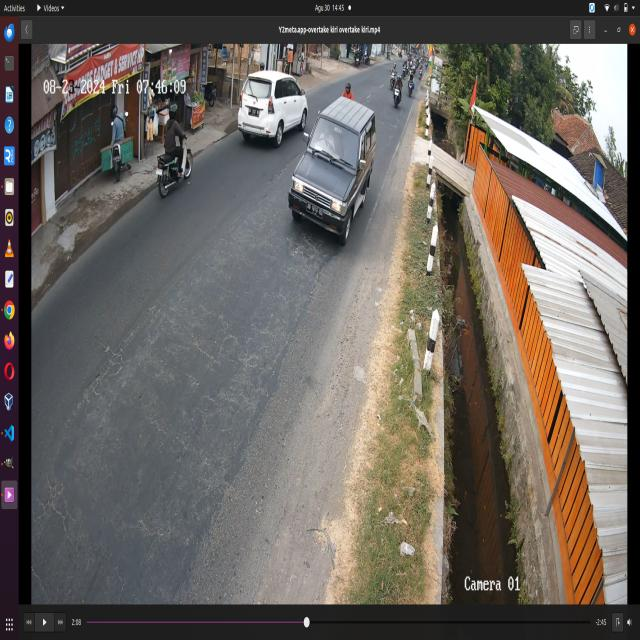person_with_seatbelt: (317, 126, 336, 158)
